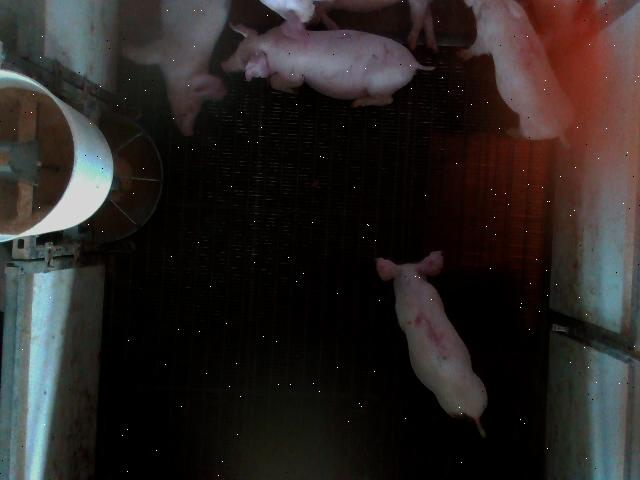pig-4: (460, 1, 574, 146)
pig-5: (376, 251, 488, 438)
